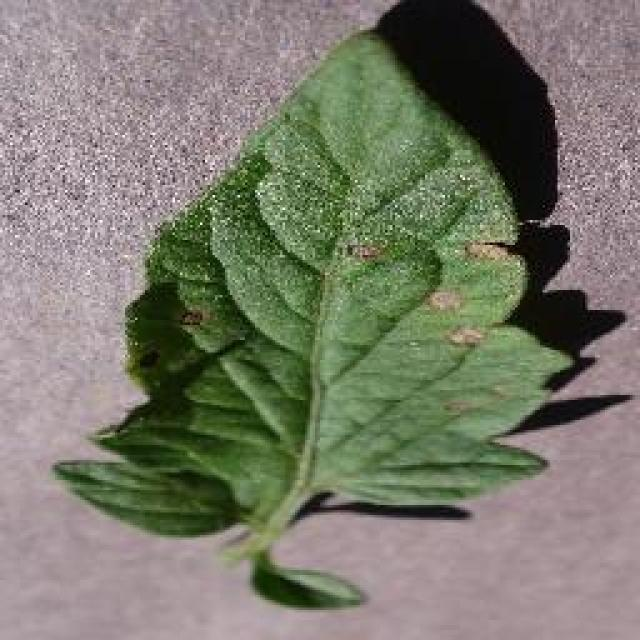Tomato___Early_blight: (51, 34, 579, 615)
